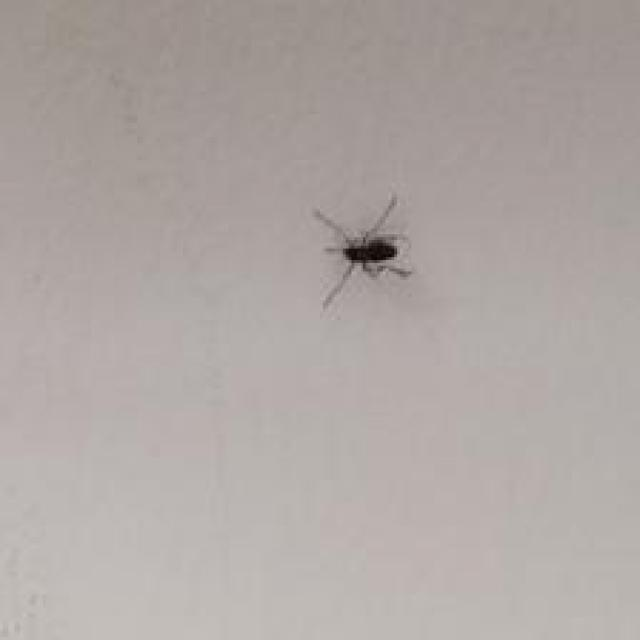Aedes albopictus: (312, 190, 414, 310)
